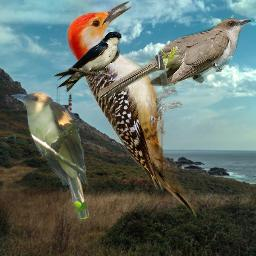Cuckoo: (96, 17, 251, 100), (9, 90, 92, 226)
Swallow: (52, 31, 122, 92)
Woodpecker: (66, 0, 197, 219)
